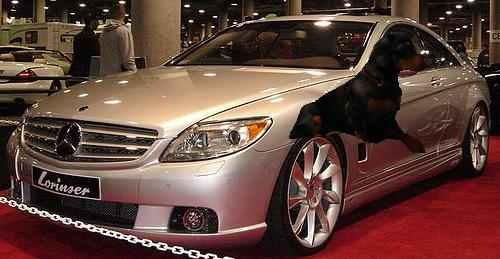tampered: (290, 33, 429, 153)
